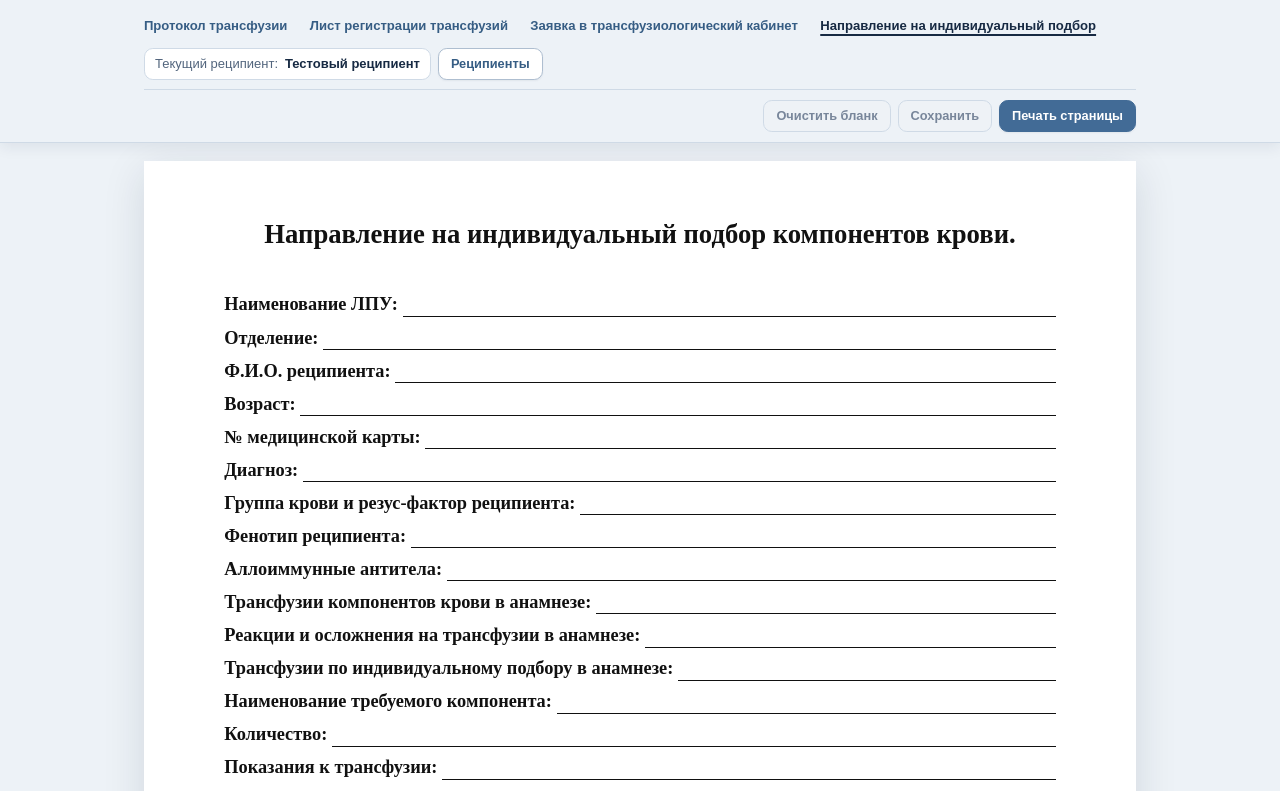
opens the recipient dialog with examination inputs from the blood group row
The image size is (1280, 791).
Click the text "Группа крови и резус-фактор реципиента:": coordinates (400, 499) [224,482,576,515]
(page scrolled)
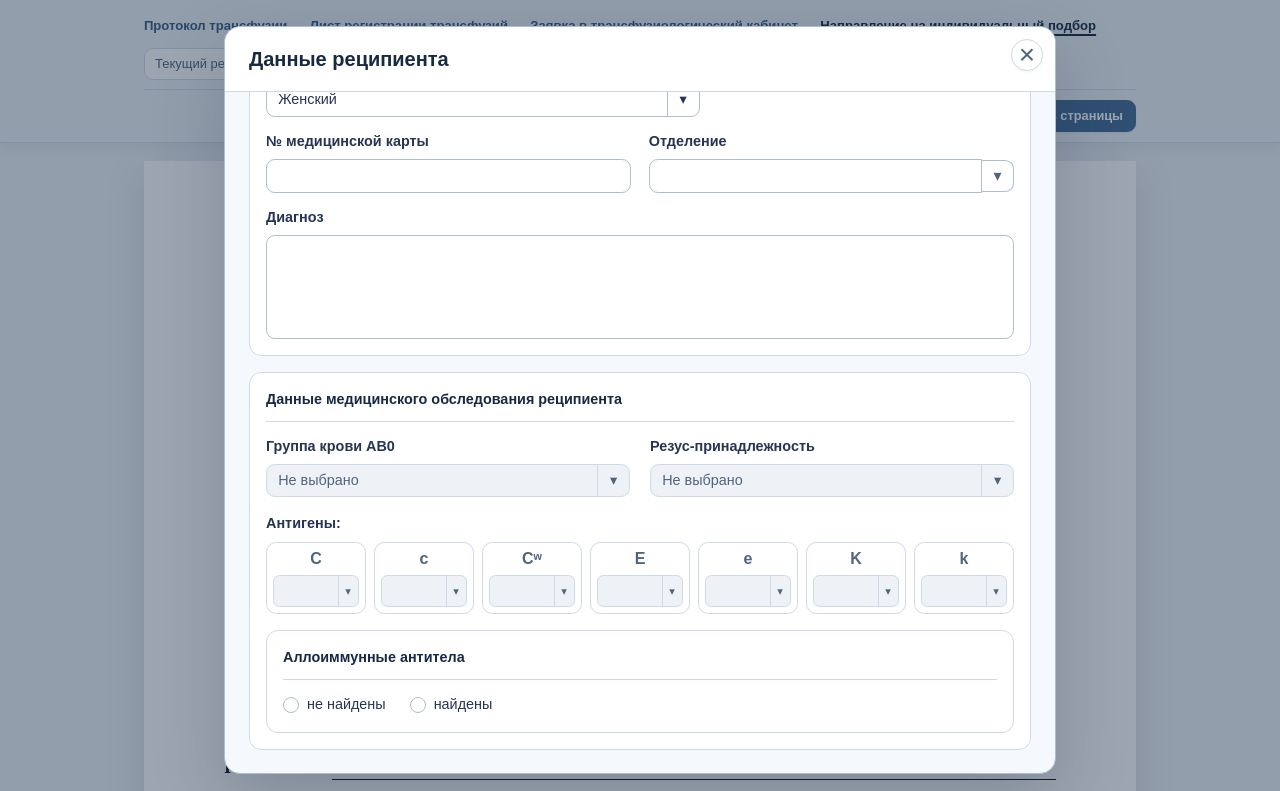
Check: the button with aria-label "Группа крови AB0" is shown, box [266,464,630,497]
Check: the button with aria-label "Резус-принадлежность" is shown, box [650,464,1014,497]
Check: the text "Антигены:" is shown, box [266,515,341,531]
